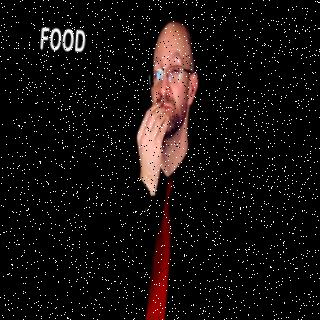Food: (110, 17, 221, 320)
